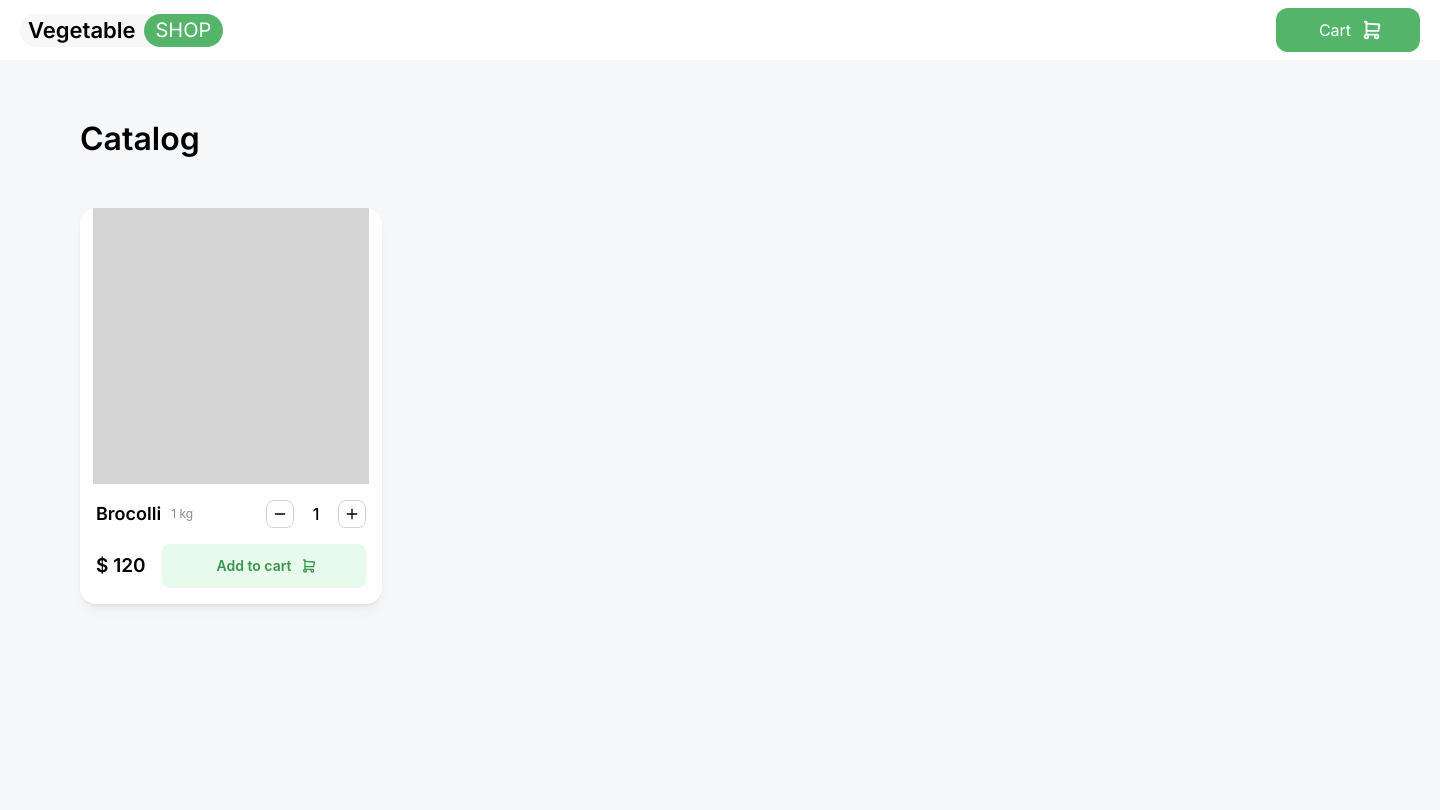
it: ShopModule › объединяет количество одинакового товара в корзине
Click the button "Add to cart" at (264, 566), box [162,544,366,588]
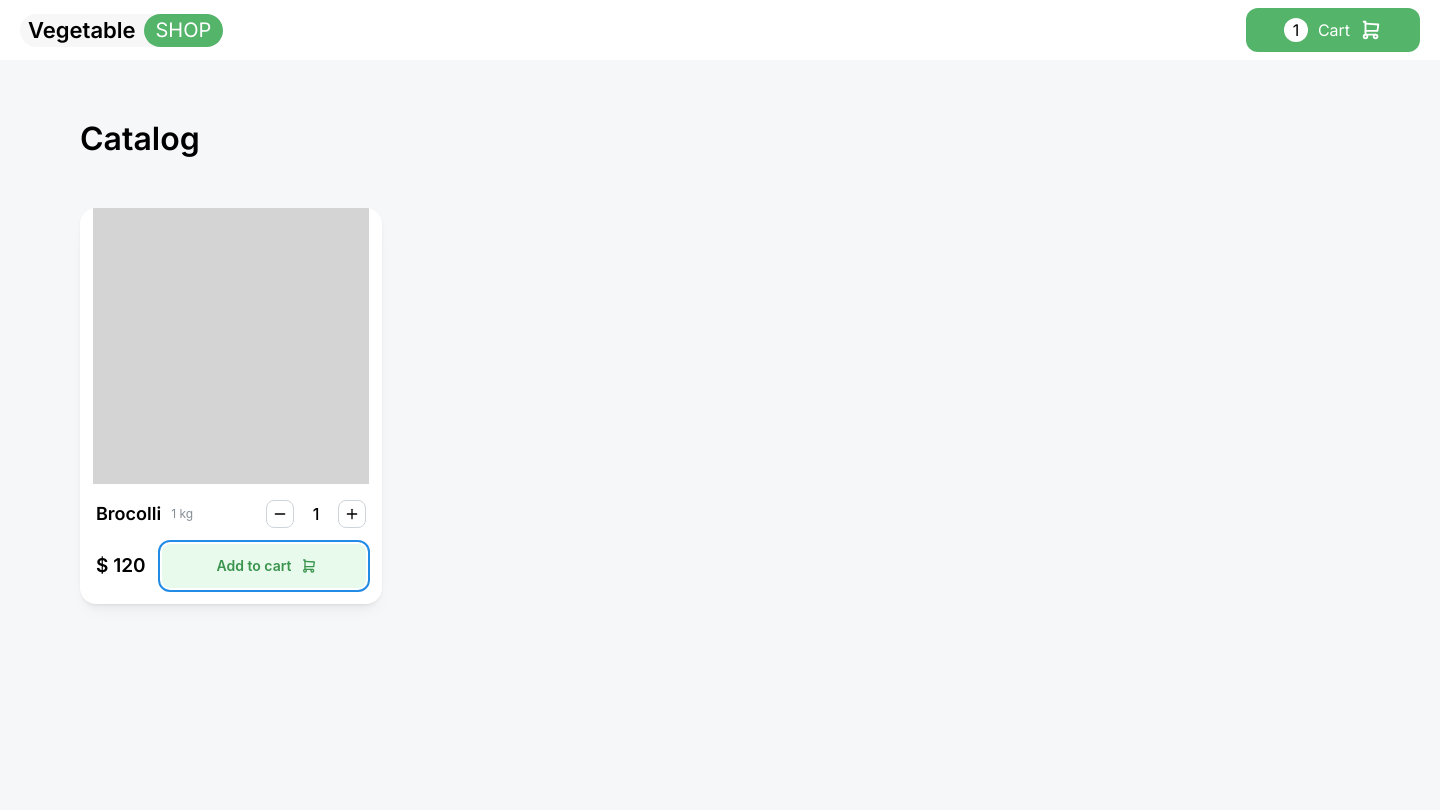
Click the button "Add to cart" at (264, 566), box [162,544,366,588]
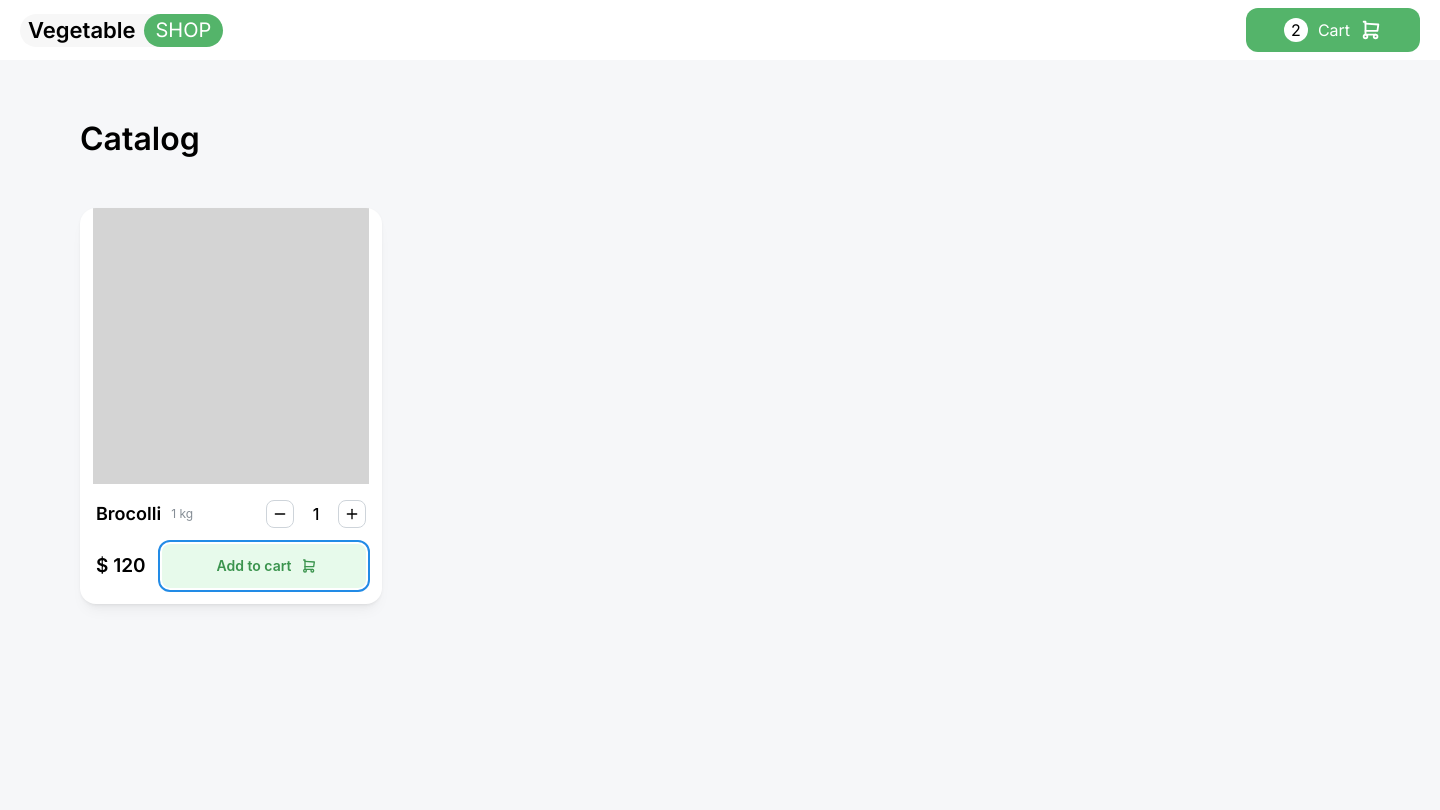
Click the button with aria-label "Открыть корзину" at (1333, 30), box [1246,8,1420,52]
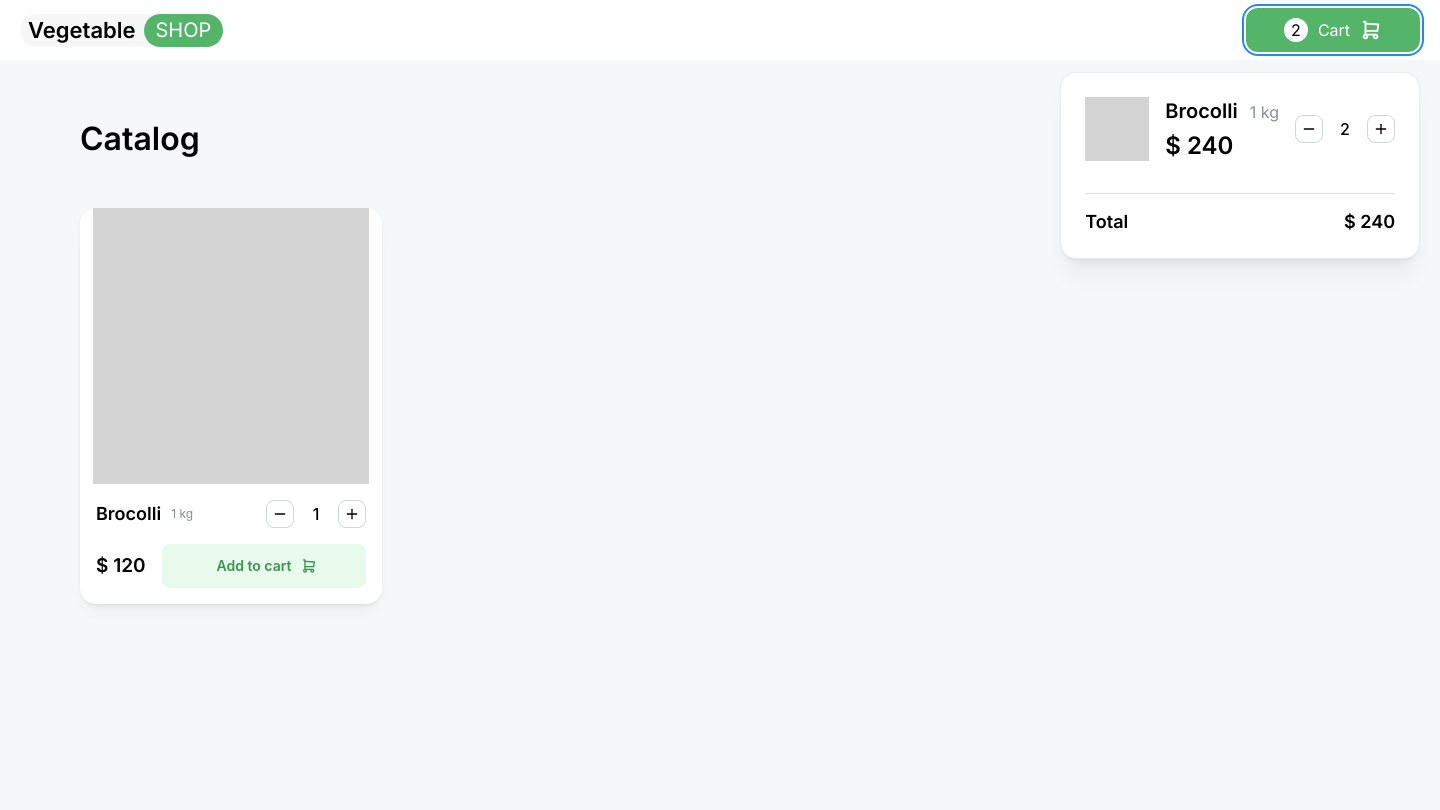
Expected: the heading "Brocolli" is shown, [96,500,161,528]
Expected: the text named "Количество: 2" is shown, [1340,119,1350,139]
